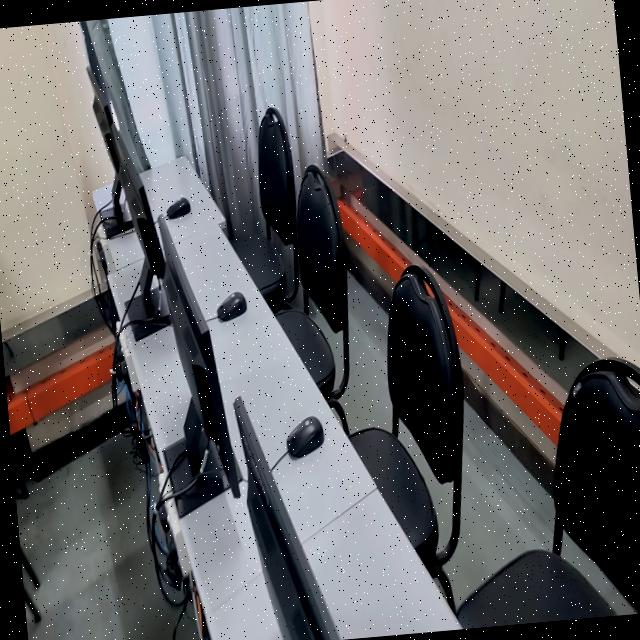Chair: (456, 358, 640, 629), (348, 263, 463, 611), (274, 164, 348, 433), (230, 106, 298, 308)
Monitor: (236, 403, 340, 640), (158, 216, 239, 496), (107, 123, 164, 277), (86, 65, 120, 170)
Mouse: (285, 415, 323, 456), (216, 291, 246, 321), (166, 196, 189, 218)
